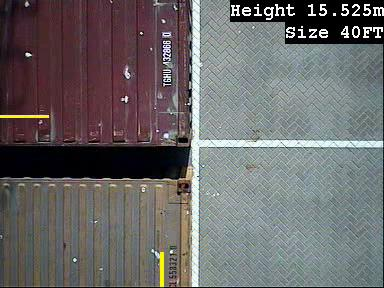groundmarker_2: (133, 75, 199, 114), (134, 229, 199, 268)
